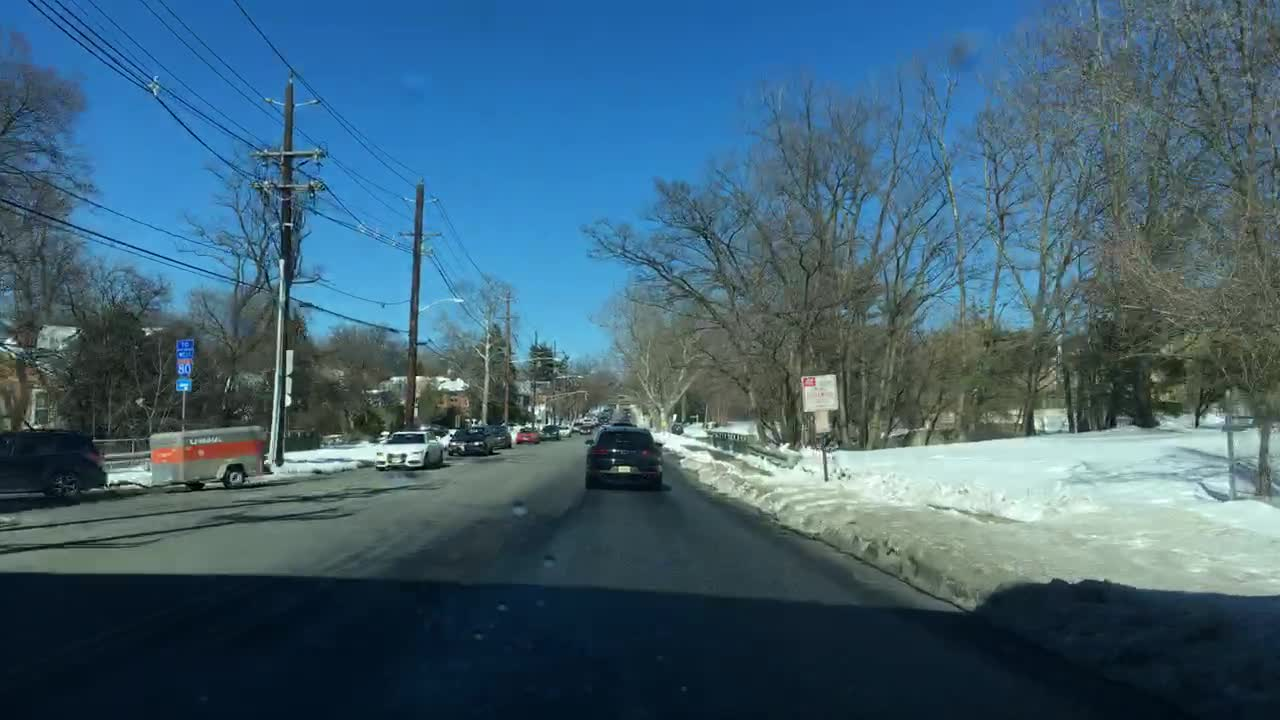car: (582, 426, 667, 491), (372, 429, 445, 471), (459, 426, 496, 458), (487, 425, 512, 448), (513, 426, 540, 443), (540, 425, 560, 441), (446, 431, 458, 456), (570, 416, 583, 431), (557, 423, 570, 436), (579, 415, 592, 424), (608, 422, 637, 426), (592, 415, 602, 426), (580, 426, 591, 434), (600, 414, 608, 423)
traffic sign: (799, 374, 841, 413), (175, 337, 192, 375), (283, 349, 292, 406), (175, 378, 191, 391)
truck: (0, 424, 279, 505)
